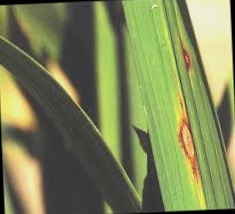Brown_Spot: (177, 98, 206, 185), (181, 32, 194, 73)
